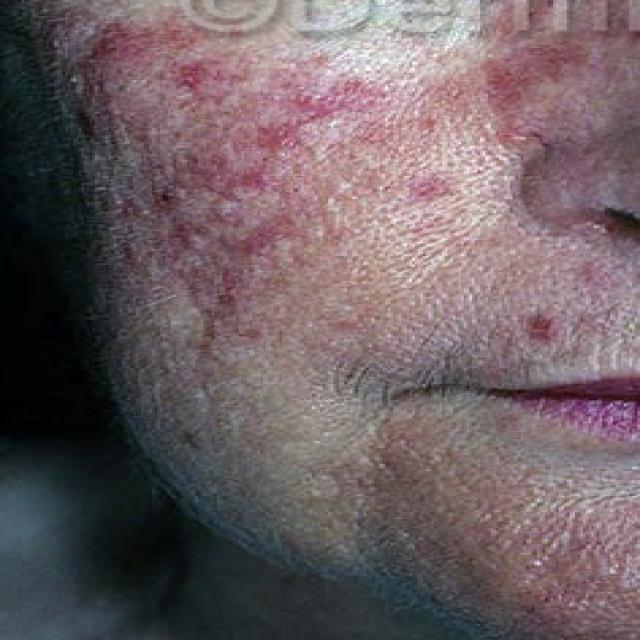Rosacea: (98, 32, 372, 312)
